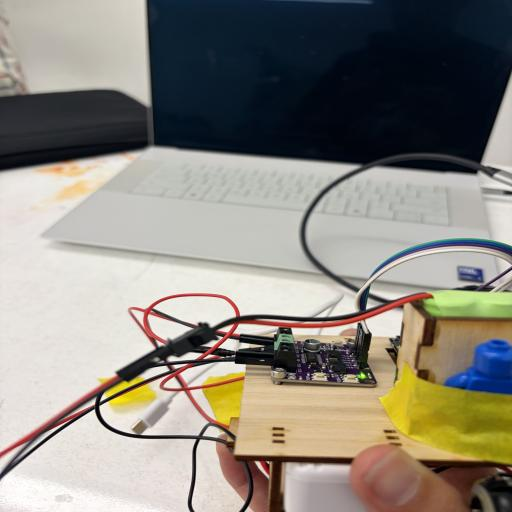Blue-Lego: (444, 339, 512, 396)
